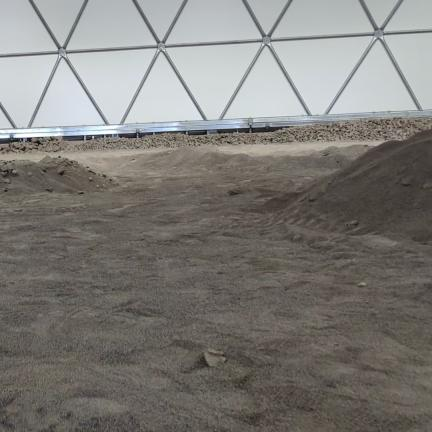Rock: (203, 350, 226, 367), (206, 348, 224, 356), (400, 176, 412, 185), (58, 141, 69, 150), (227, 190, 241, 196), (25, 143, 39, 149), (58, 167, 65, 175), (40, 141, 48, 148), (358, 282, 367, 288), (0, 165, 7, 172), (87, 167, 95, 173), (38, 138, 46, 144), (293, 235, 301, 241), (0, 171, 7, 177), (14, 142, 20, 149), (423, 183, 431, 188), (46, 145, 52, 151), (5, 146, 11, 152), (309, 197, 316, 202), (350, 221, 358, 225), (20, 145, 25, 151), (45, 187, 52, 191), (54, 144, 58, 151), (322, 152, 329, 156), (58, 137, 63, 142), (8, 143, 13, 148), (11, 170, 17, 174), (100, 173, 106, 177), (50, 136, 56, 140), (88, 177, 93, 181), (5, 179, 10, 183), (40, 170, 44, 175), (32, 138, 37, 142), (14, 149, 19, 153), (72, 164, 78, 167), (109, 178, 113, 182), (42, 168, 46, 172), (78, 191, 83, 194), (4, 188, 9, 191), (27, 173, 32, 176), (101, 185, 106, 188), (45, 138, 50, 141), (0, 146, 3, 151), (364, 144, 369, 146), (58, 155, 61, 158), (96, 185, 99, 188), (116, 181, 119, 184), (336, 160, 339, 163)
